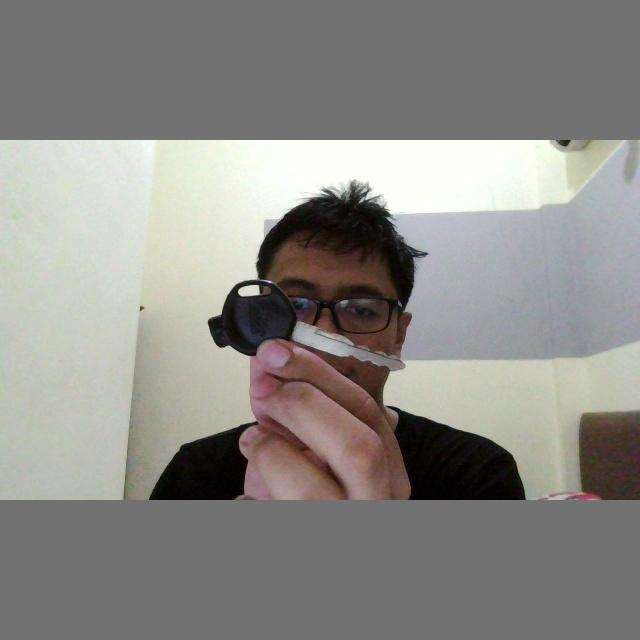Keys: (206, 272, 407, 384)
